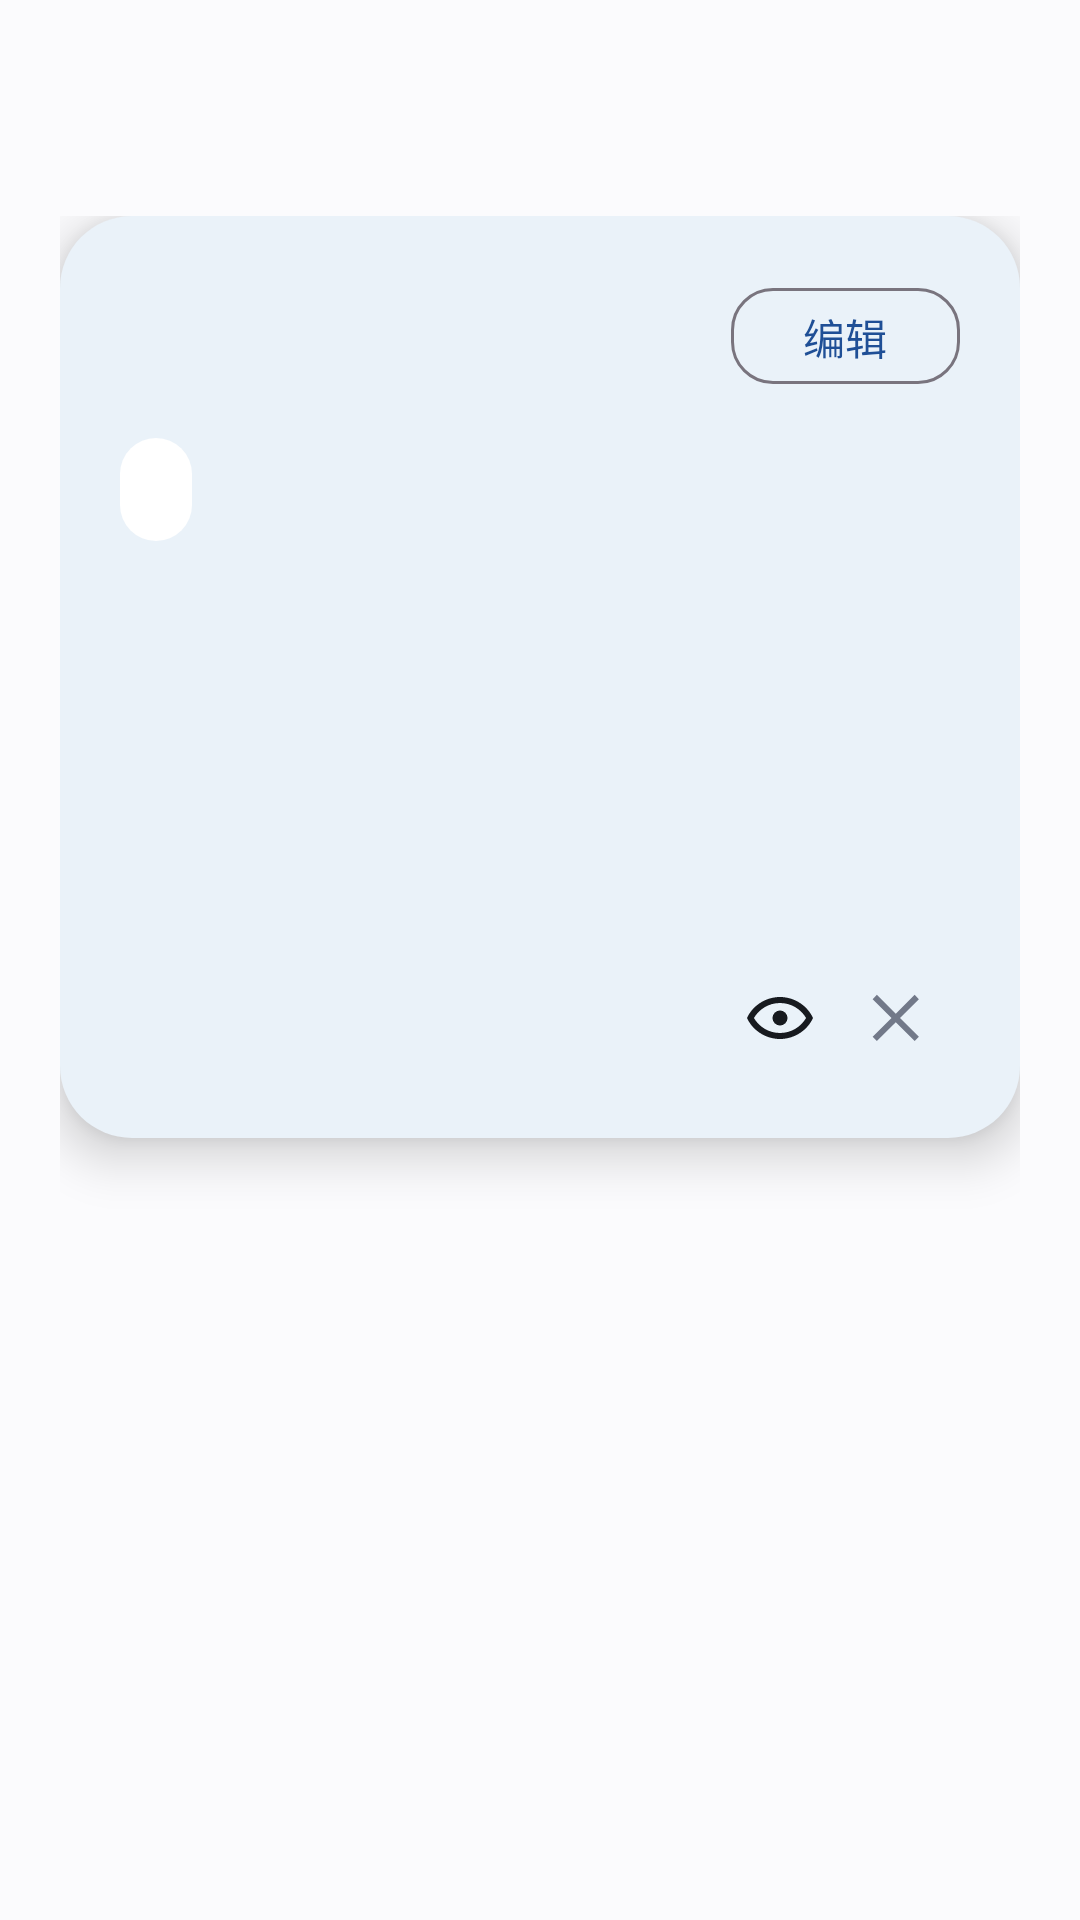

Icons on this 1080*1920 Android screen, each with its box as (x1, y1, x2, y2):
view: (747, 997, 813, 1039)
关闭: (873, 995, 919, 1041)
